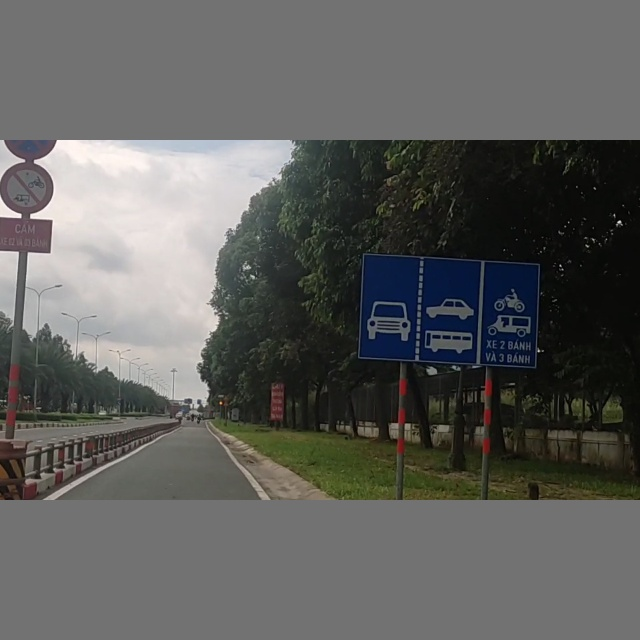R.415a: (359, 255, 539, 367)
